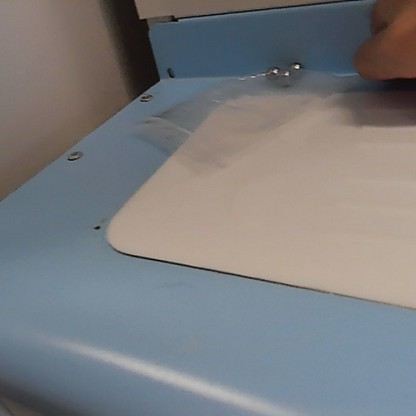ironball: (276, 64, 297, 88), (288, 53, 306, 76), (262, 61, 280, 80)
